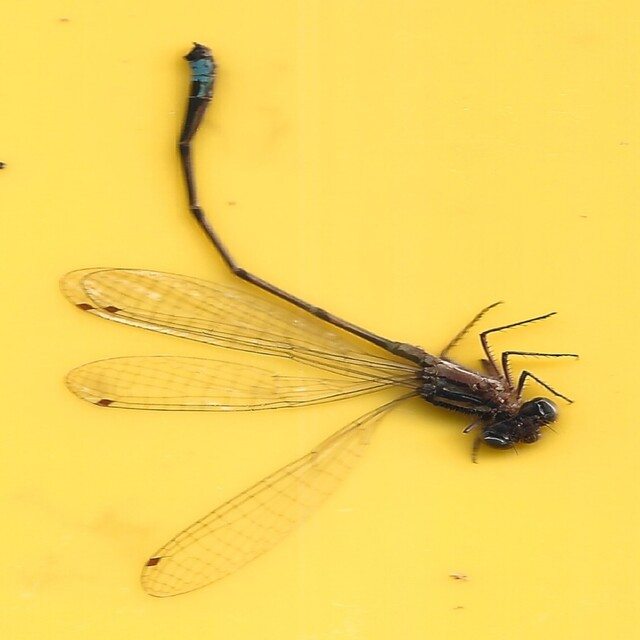Odonata: (56, 41, 584, 599)
